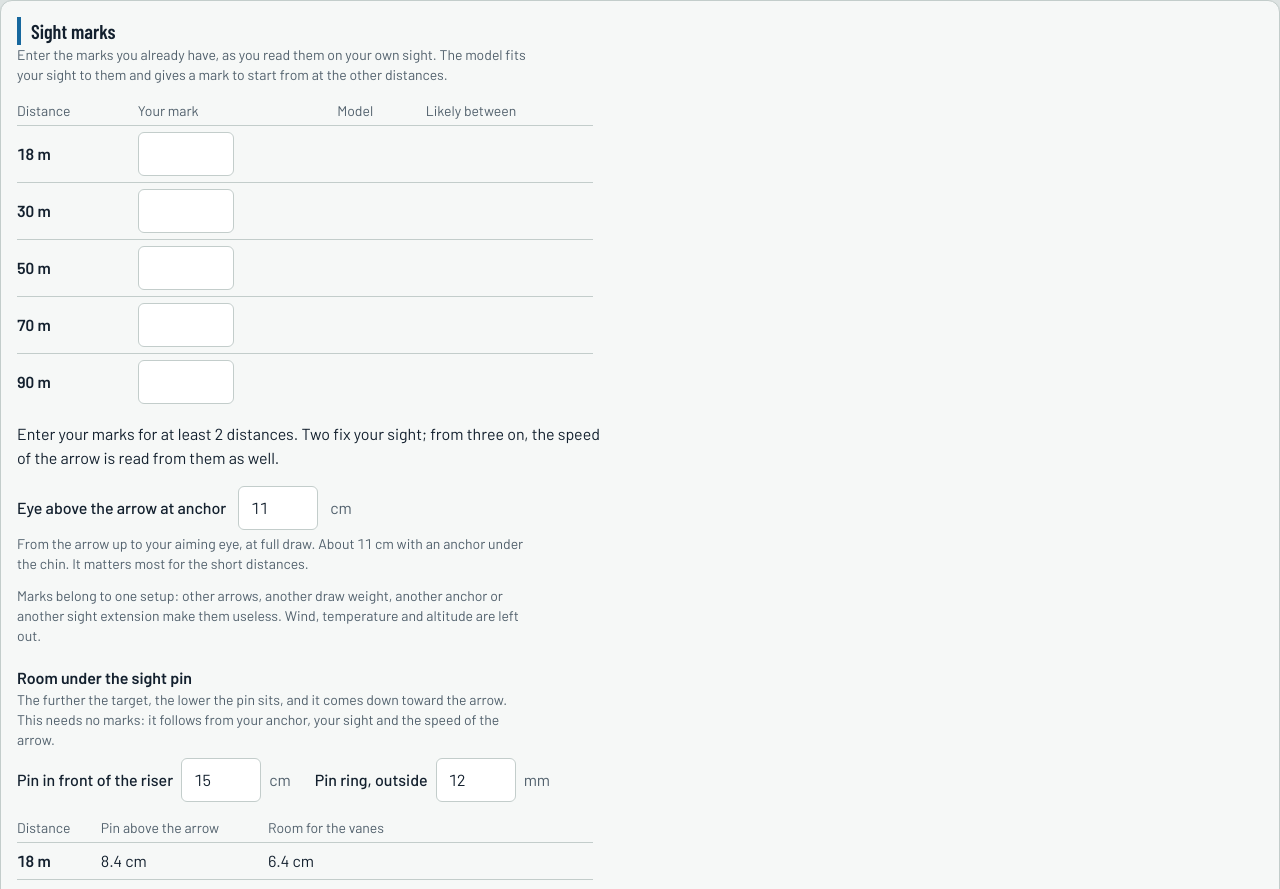
Test: SightMarksPanel › changes the eye height, and puts back an entry that cannot be one
The image size is (1280, 889).
Replace the text in the field labelled "Eye above the arrow at anchor cm" with "9,5" at coordinates (278, 508), box [238,486,318,530]
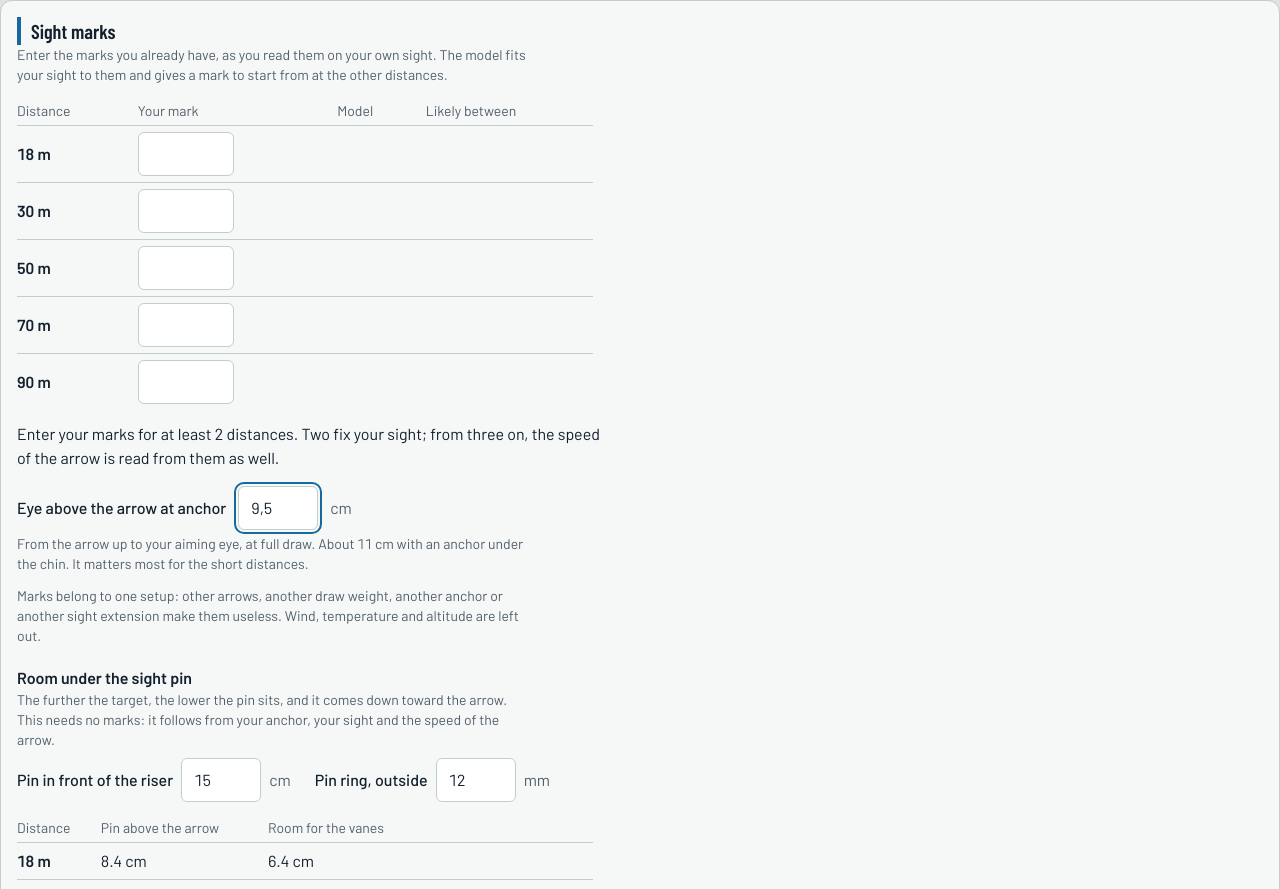
Press Tab
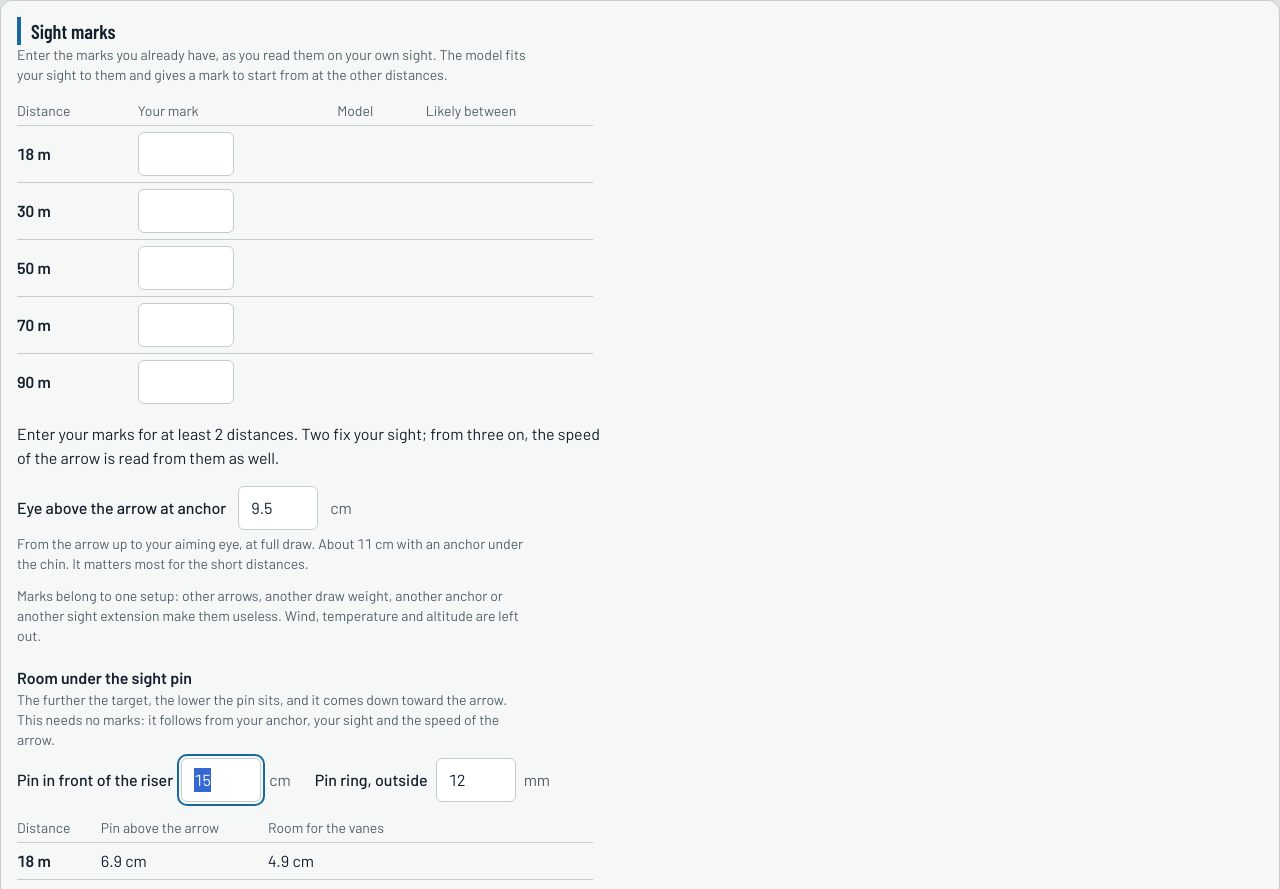
Replace the text in the field labelled "Eye above the arrow at anchor cm" with "80" at coordinates (278, 508), box [238,486,318,530]
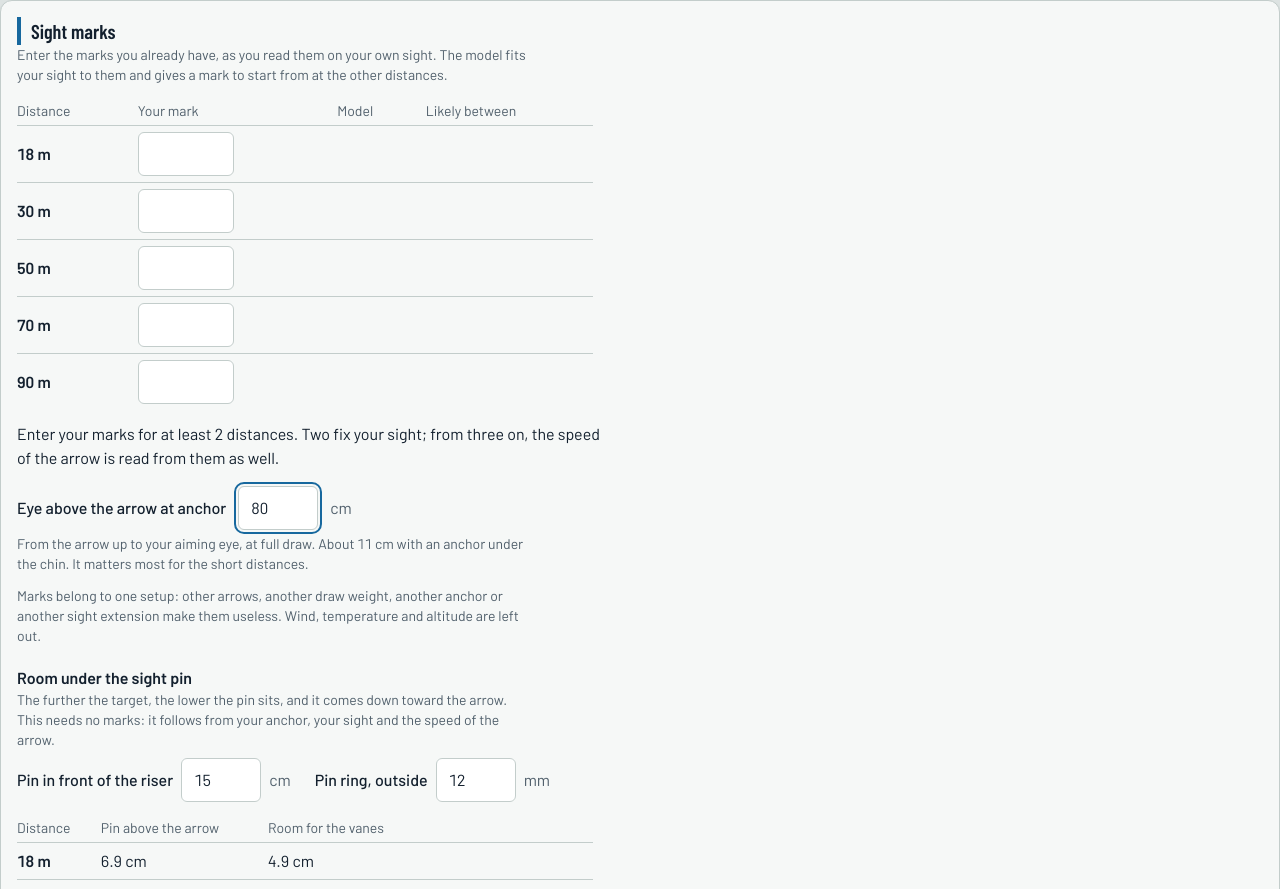
Press Tab
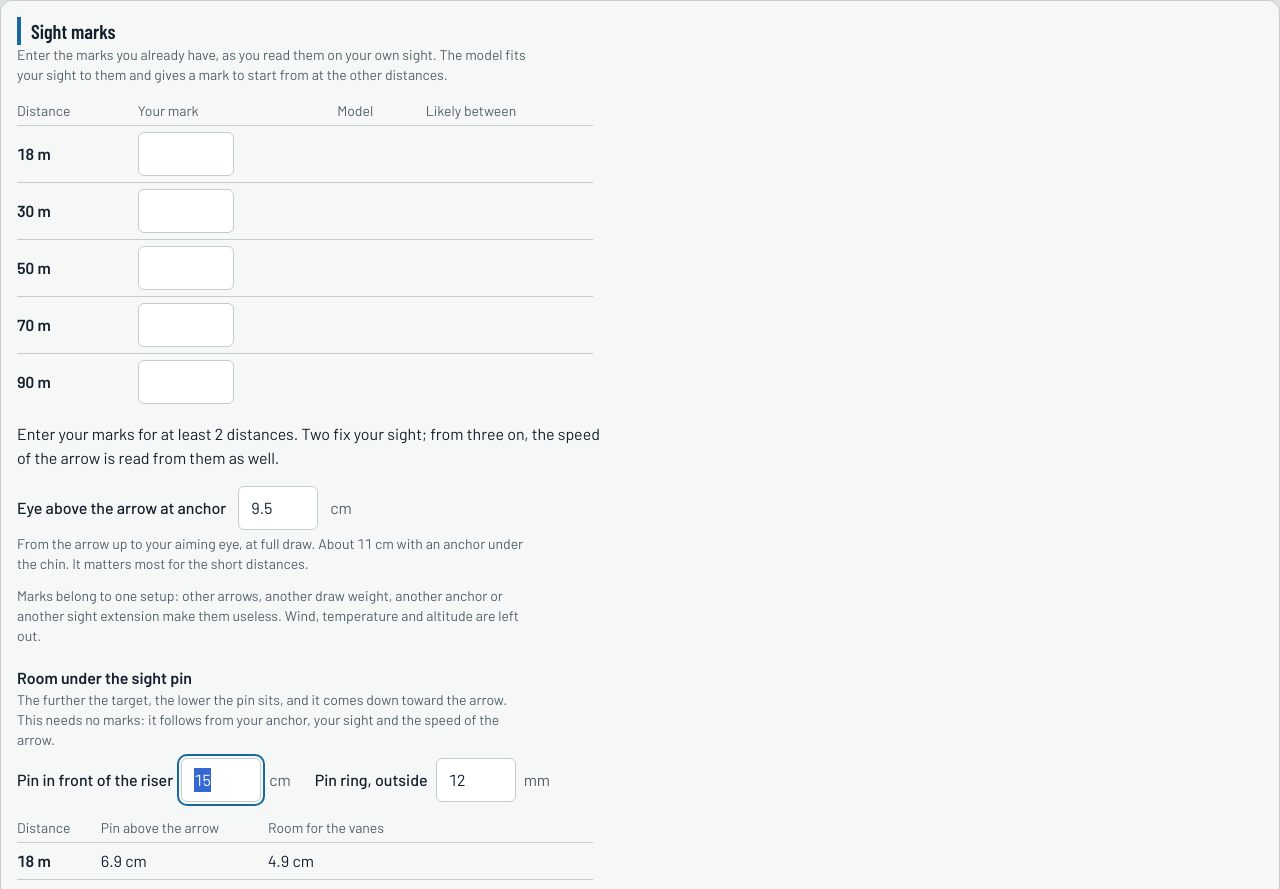
Expected: the field labelled "Eye above the arrow at anchor cm" holds "9.5", [238,486,318,530]
